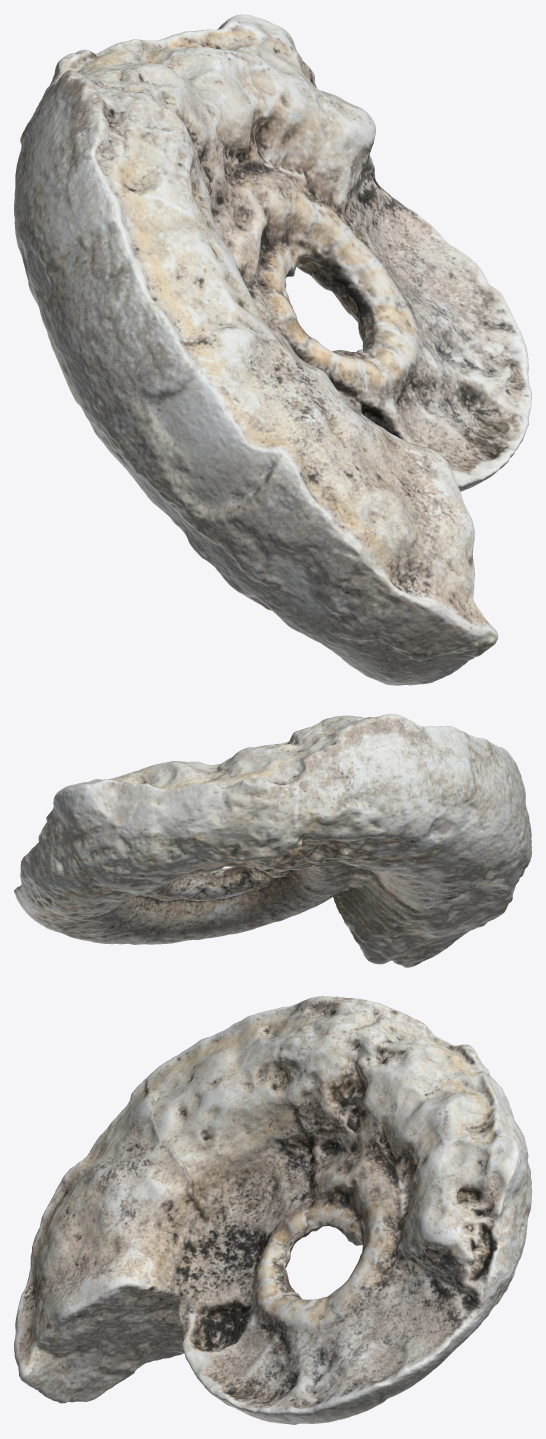
Rendered from MZUR3D-044.glb.
3 renders of one model, top to bottom at view 1: azimuth 30°, elevation 25°; view 2: azimuth 150°, elevation 25°; view 3: azimuth 270°, elevation 25°, orthographic. The views are drawn at different scales.
Parts seen in each view (by area): view 1: MZUR3D-044; view 2: MZUR3D-044; view 3: MZUR3D-044.
Boxes of the visible parts, bbox=[...] form: MZUR3D-044: bbox=[14, 14, 531, 685]; MZUR3D-044: bbox=[14, 714, 531, 967]; MZUR3D-044: bbox=[14, 996, 531, 1424].
Size of the model in its own units: 1.19 by 1.04 by 1.36.
Materials: 1 (1 with a texture image).
